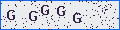G: (29, 11, 38, 21), (73, 13, 81, 23), (57, 6, 65, 16), (41, 5, 49, 15), (7, 10, 15, 20)
